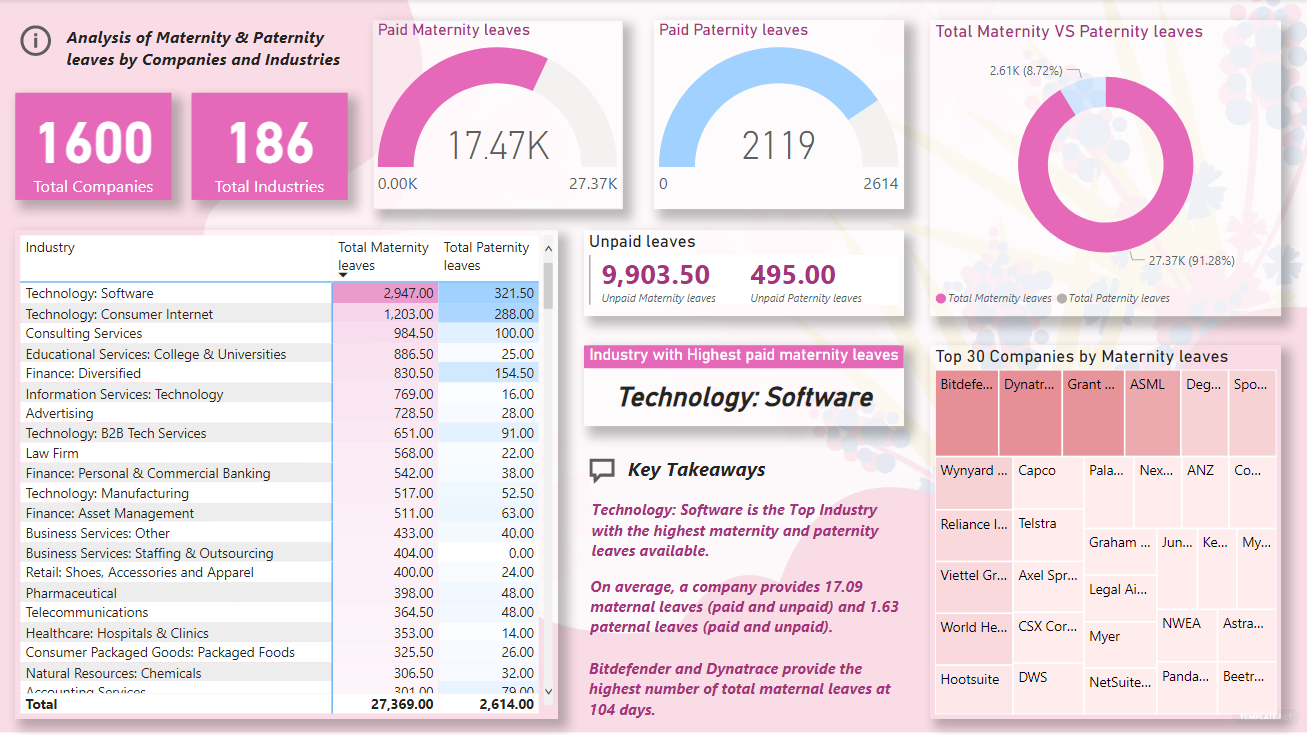

This screenshot's page, from the dashboard's own definition file:
{"tool":"powerbi","page":{"name":"Page 1","canvas":[1280,720],"ordinal":0},"visuals":[{"type":"card","fields":{"Values":["parental_leave.total industries"]},"box":[188.3,91.7,152.8,105.1],"z":0},{"type":"card","fields":{"Values":["parental_leave.Total Companies"]},"box":[15.9,91.7,152.8,105.1],"z":1000},{"type":"pivotTable","fields":{"Rows":["parental_leave.Industry"],"Values":["parental_leave.Total Maternity leaves","parental_leave.Total Paternity leaves"]},"box":[15.9,226.1,530.5,478],"z":2000},{"type":"gauge","title":"Paid Maternity leaves","fields":{"MaxValue":["parental_leave.Total Maternity leaves"],"Y":["parental_leave.Total paid maternity leaves"]},"box":[365.5,20.8,244.5,184.6],"z":3000},{"type":"treemap","title":"Top 30 Companies by Maternity leaves","fields":{"Values":["parental_leave.Total Maternity leaves"],"Group":["parental_leave.Company"]},"box":[910.7,338.6,343.5,365.5],"z":4000},{"type":"donutChart","title":"Total Maternity VS Paternity leaves","fields":{"Y":["parental_leave.Total Maternity leaves","parental_leave.Total Paternity leaves"]},"box":[910.7,20.8,343.5,289.7],"z":5000},{"type":"gauge","title":"Paid Paternity leaves","fields":{"Y":["parental_leave.Total paid paternity leaves"],"MaxValue":["parental_leave.Total Paternity leaves"]},"box":[640.5,20.8,244.5,184.6],"z":6000},{"type":"actionButton","box":[15.9,20.8,45.2,40.3],"z":7000},{"type":"textbox","box":[61.1,20.8,292.2,67.2],"z":8000},{"type":"multiRowCard","title":"Unpaid leaves","fields":{"Values":["parental_leave.Unpaid Maternity leaves","parental_leave.Unpaid Paternity leaves"]},"box":[572.1,226.1,312.9,84.3],"z":9000},{"type":"card","title":"Industry with Highest paid maternity leaves","fields":{"Values":["Min(parental_leave.Industry)"]},"box":[572.1,338.6,312.9,79.5],"z":10000},{"type":"textbox","box":[609.8,440.9,314.5,48.1],"z":11000},{"type":"actionButton","box":[572.7,445,97.5,33],"z":12000},{"type":"textbox","box":[574.5,484.1,310.5,73.3],"z":13000},{"type":"textbox","box":[573.3,558.6,311.7,73.3],"z":13002},{"type":"textbox","box":[572.1,639.3,312.9,73.3],"z":13003}]}

Visuals, with their boxes in screenshot pixels (x1, y1, x2, y2), scaled from the page's 1280x720 canvas onto the 1307x735 screenshot:
card - parental_leave.total industries: {"x1": 192, "y1": 94, "x2": 348, "y2": 201}
card - parental_leave.Total Companies: {"x1": 16, "y1": 94, "x2": 172, "y2": 201}
pivotTable - parental_leave.Industry x parental_leave.Total Maternity leaves: {"x1": 16, "y1": 231, "x2": 558, "y2": 719}
"Paid Maternity leaves" gauge: {"x1": 373, "y1": 21, "x2": 623, "y2": 210}
"Top 30 Companies by Maternity leaves" treemap: {"x1": 930, "y1": 346, "x2": 1281, "y2": 719}
"Total Maternity VS Paternity leaves" donutChart: {"x1": 930, "y1": 21, "x2": 1281, "y2": 317}
"Paid Paternity leaves" gauge: {"x1": 654, "y1": 21, "x2": 904, "y2": 210}
actionButton: {"x1": 16, "y1": 21, "x2": 62, "y2": 62}
textbox: {"x1": 62, "y1": 21, "x2": 361, "y2": 90}
"Unpaid leaves" multiRowCard: {"x1": 584, "y1": 231, "x2": 904, "y2": 317}
"Industry with Highest paid maternity leaves" card: {"x1": 584, "y1": 346, "x2": 904, "y2": 427}
textbox: {"x1": 623, "y1": 450, "x2": 944, "y2": 499}
actionButton: {"x1": 585, "y1": 454, "x2": 684, "y2": 488}
textbox: {"x1": 587, "y1": 494, "x2": 904, "y2": 569}
textbox: {"x1": 585, "y1": 570, "x2": 904, "y2": 645}
textbox: {"x1": 584, "y1": 653, "x2": 904, "y2": 727}
